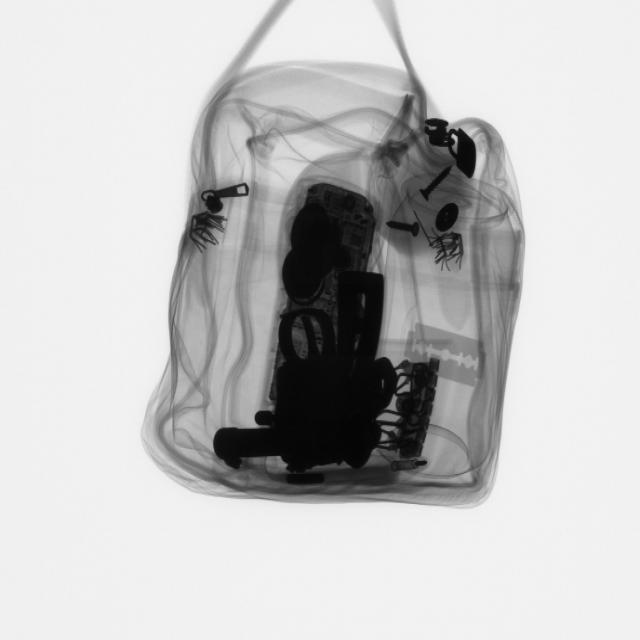BLADE: (400, 312, 494, 394)
GUN: (218, 264, 400, 475)
SCREW: (415, 154, 462, 209), (377, 211, 432, 245)
